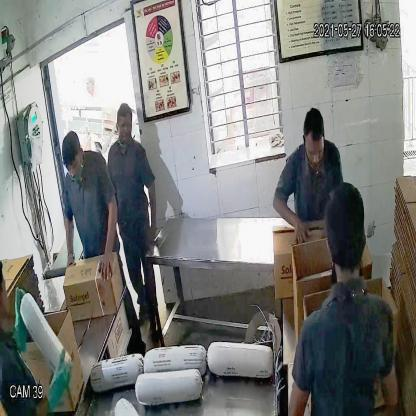no_goggles: (305, 142, 327, 164), (62, 158, 83, 179)
